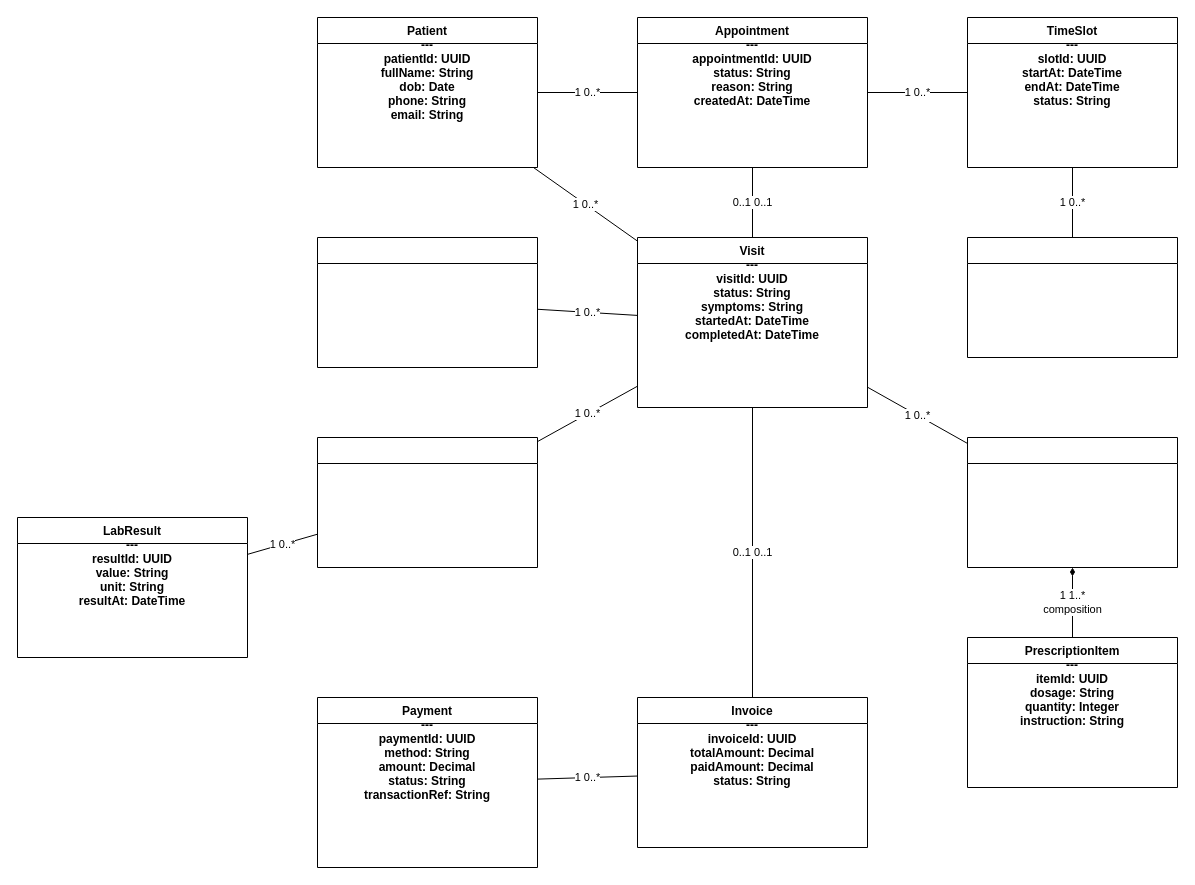
Image size: 1195x885. Some labels were removed from this diagram. The centre of each missing label's shape, as x and y in pixels:
Doctor --- doctorId: UUID fullName: String licenseNo: String: the point at 1072,297
LabOrder --- labOrderId: UUID status: String requestedAt: DateTime: the point at 427,502
MedicalRecord --- recordId: UUID createdAt: DateTime status: String: the point at 427,302
Prescription --- prescriptionId: UUID issuedAt: DateTime status: String: the point at 1072,502
